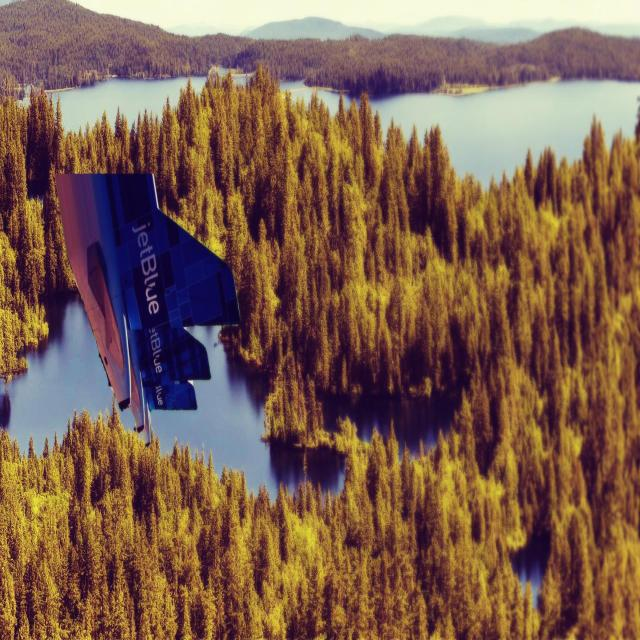airplane: (54, 170, 241, 448)
